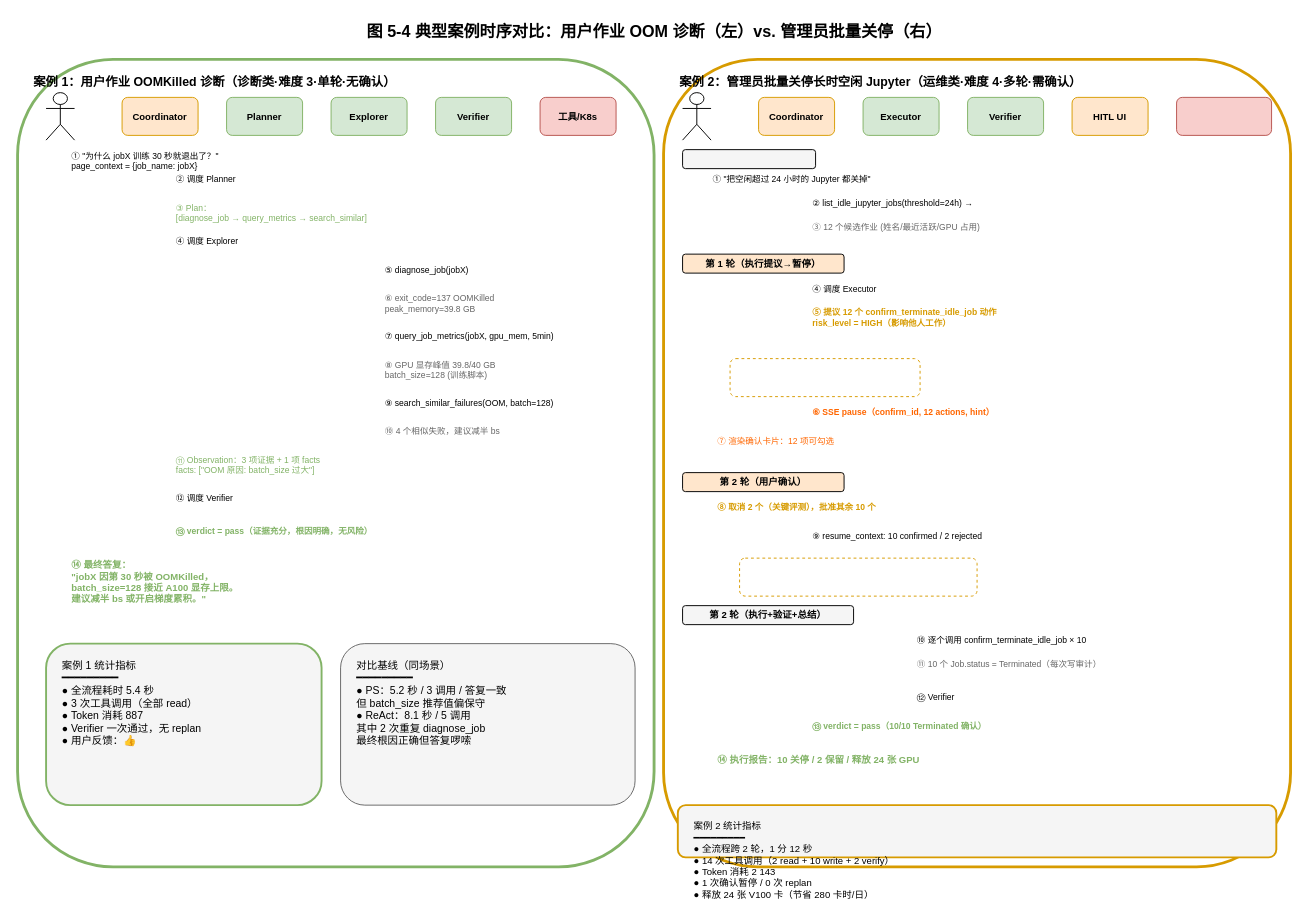
This 1308x917 diagram has some shape labels left out. The centre of each missing label's shape, as x and y in pixels:
apply_resume_outcome： 重建 MASState · attempted_tool_signatures 去重: pixel 858 576
K8s/Volcano: pixel 1224 115
序列化 workflow checkpoint v5 构造 confirmation_payload: pixel 824 377
用户 zhangsan: pixel 60 116
第 1 轮（规划+探索）: pixel 749 159
管理员 wjh: pixel 696 116
